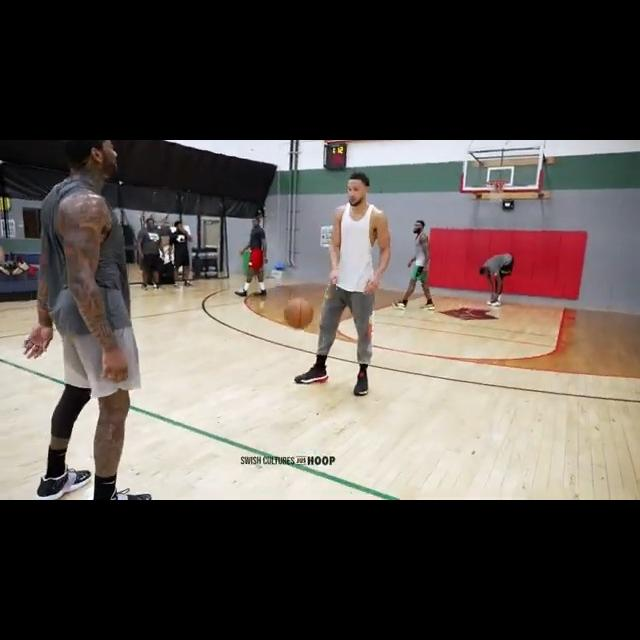basketball: (283, 297, 314, 329)
hoop: (485, 178, 506, 202)
person: (22, 140, 152, 499), (294, 173, 391, 396), (391, 216, 437, 311), (234, 217, 272, 297), (479, 248, 515, 308), (137, 217, 165, 290), (168, 221, 194, 289)
